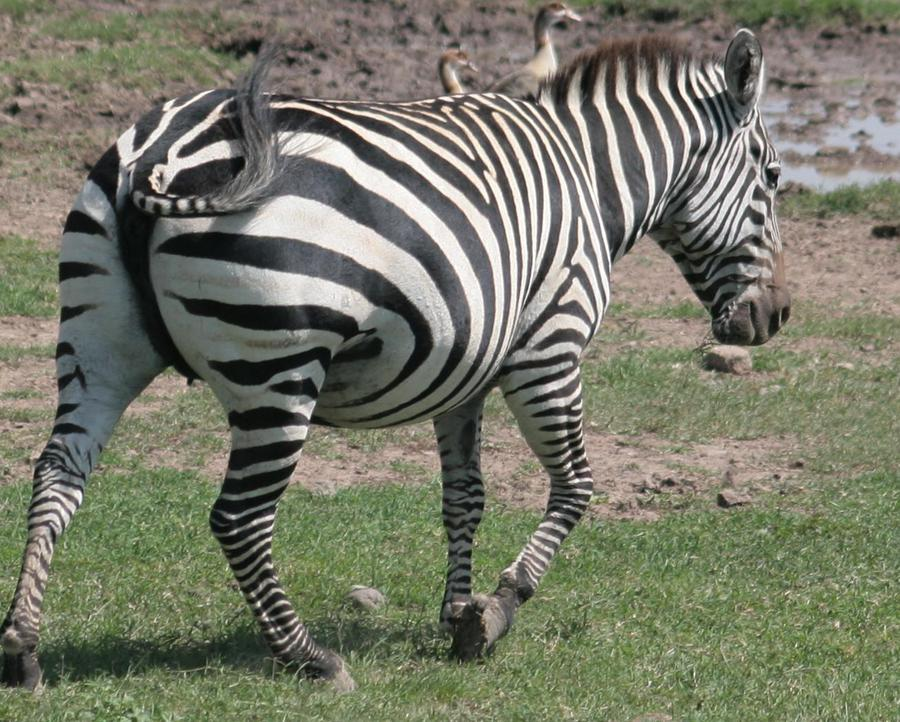zebra_plains: (180, 36, 636, 478)
